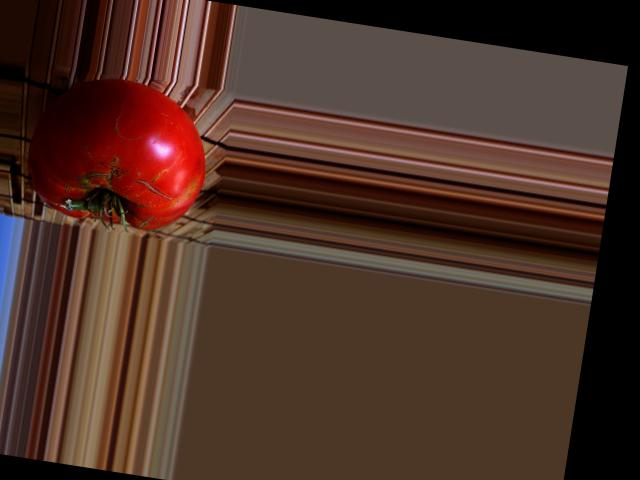tomato: (19, 69, 216, 237)
